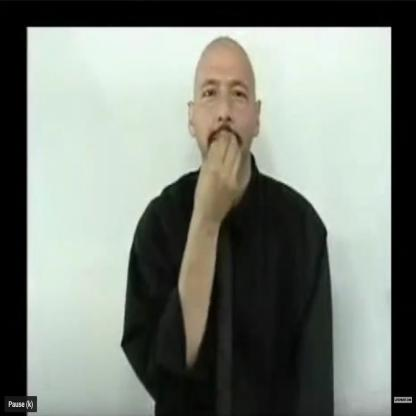Food: (180, 31, 276, 219)
